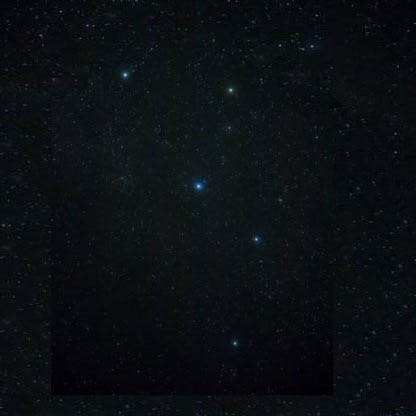Cassiopeia: (213, 78, 244, 134), (179, 170, 218, 202), (110, 61, 140, 88), (243, 225, 273, 252), (224, 330, 242, 356)
